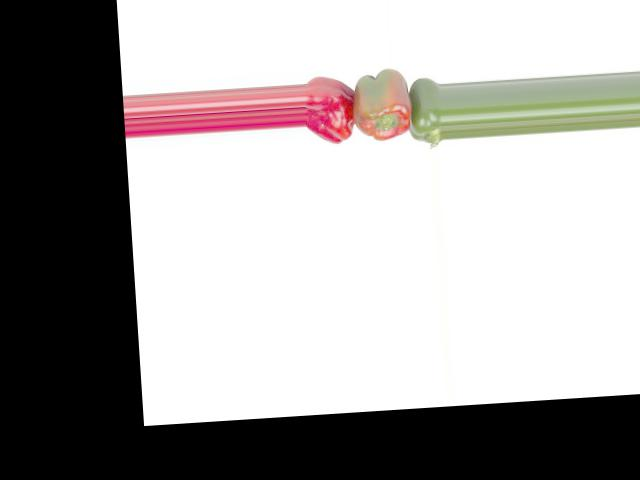bell_pepper: (303, 71, 358, 151)
